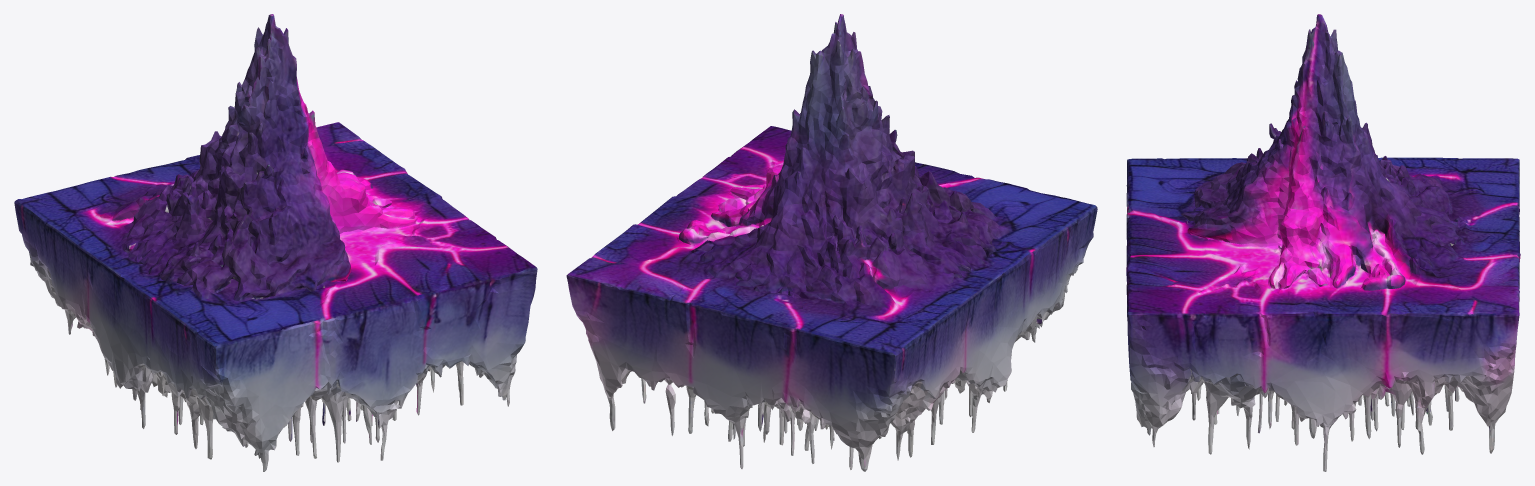
File: solitude-plateau-generated-2026-04-19T18-12-34-007Z.glb
3 renders of one model, left to right at view 1: azimuth 30°, elevation 25°; view 2: azimuth 150°, elevation 25°; view 3: azimuth 270°, elevation 25°, orthographic. The views are drawn at different scales.
Visible parts, largest first — view 1: temp_mesh.ply; view 2: temp_mesh.ply; view 3: temp_mesh.ply.
Part boxes in pixels (x1=…): temp_mesh.ply: x1=14, y1=14, x2=537, y2=471; temp_mesh.ply: x1=566, y1=14, x2=1097, y2=471; temp_mesh.ply: x1=1126, y1=14, x2=1520, y2=471.
Bounding box in the file's own units: 1.78 × 1.98 × 1.87.
Materials: 1 (1 with a texture image).
